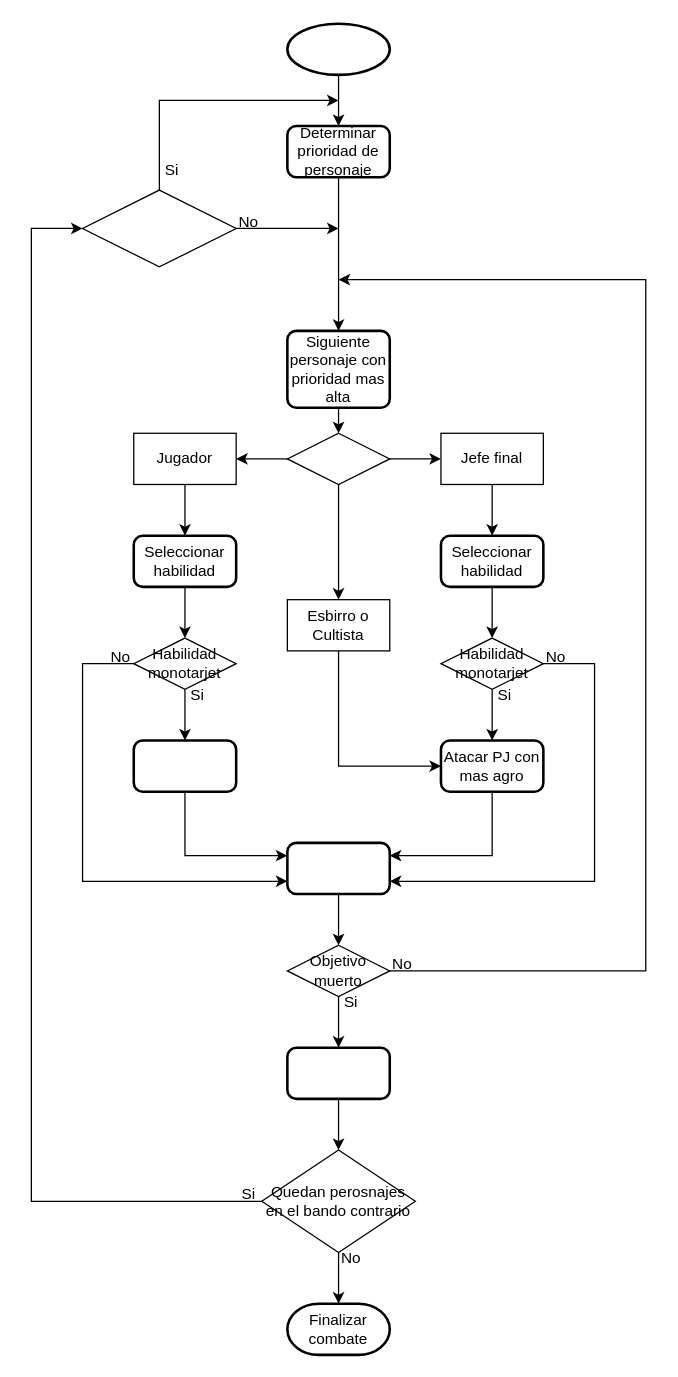
Image size: 678x1377. Some labels were removed from this diagram. Each missing label, with the box of its shape:
Aplicar efectos: (285, 841, 390, 895)
Eliminar objetivo del combate: (285, 1046, 390, 1100)
Han actuado todos los personajes: (81, 189, 236, 267)
Iniciar combate: (285, 22, 390, 76)
Seleccionar objetivo: (132, 739, 237, 792)
Tipo de personaje: (286, 432, 390, 484)
